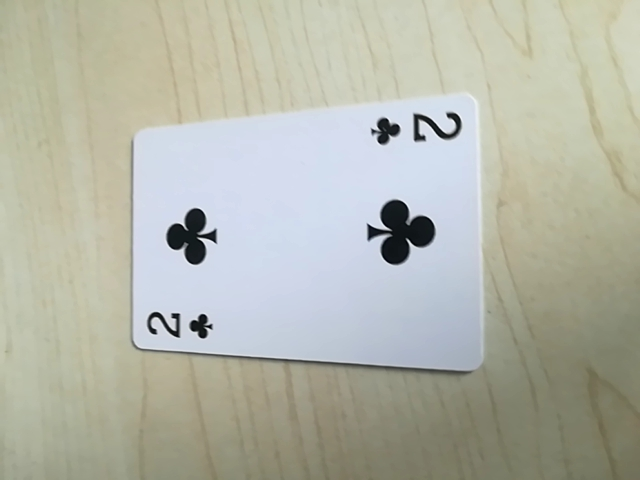mh 2: (367, 105, 467, 154), (141, 306, 223, 348)
